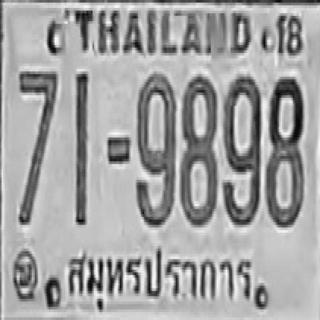N01: (74, 73, 87, 223)
N07: (18, 68, 57, 224)
N08: (265, 74, 303, 228), (179, 74, 217, 225)
N09: (135, 71, 174, 225), (223, 74, 261, 225)
P57: (61, 239, 256, 312)
